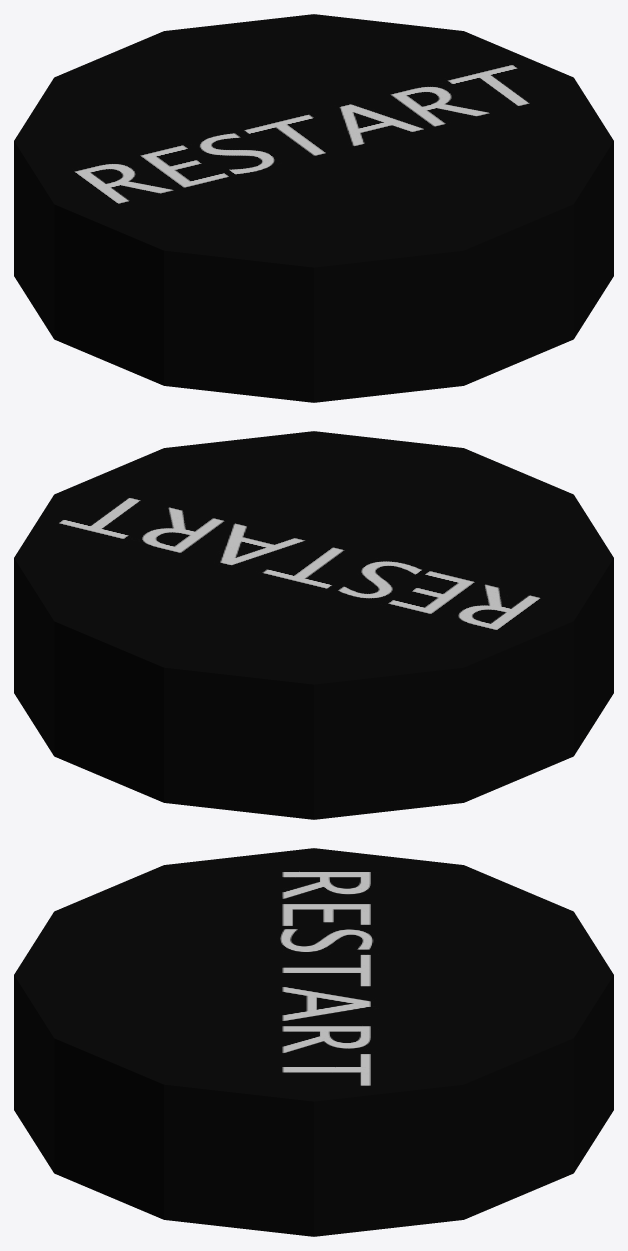
Rendered from restart.gltf.
3 renders of one model, top to bottom at view 1: azimuth 30°, elevation 25°; view 2: azimuth 150°, elevation 25°; view 3: azimuth 270°, elevation 25°, orthographic.
Parts seen in each view (by area): view 1: Cylinder; view 2: Cylinder; view 3: Cylinder.
Part boxes in pixels (bbox=[...]): Cylinder: bbox=[14, 14, 613, 402]; Cylinder: bbox=[14, 431, 613, 819]; Cylinder: bbox=[14, 848, 613, 1236].
Bounding box in the file's own units: 1.16 × 0.2886 × 1.16.
1 material, 1 textured.
